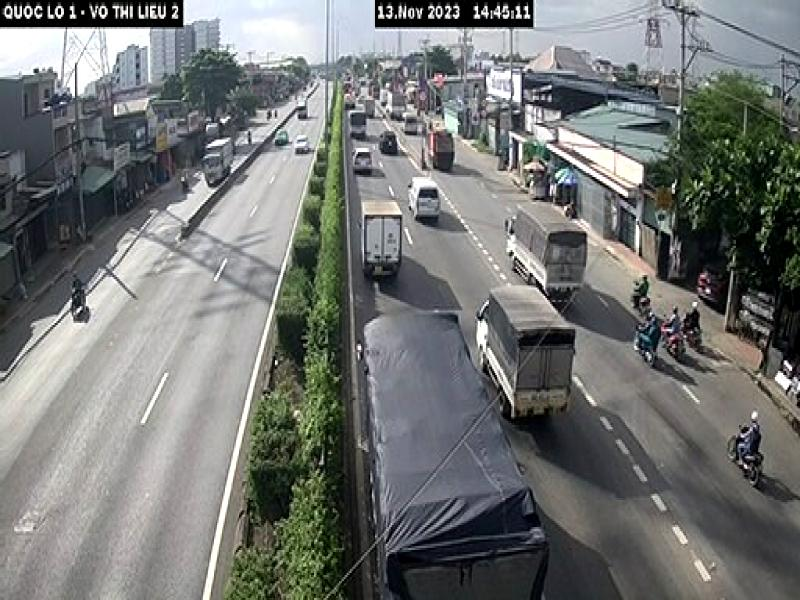truck: (474, 283, 580, 422)
